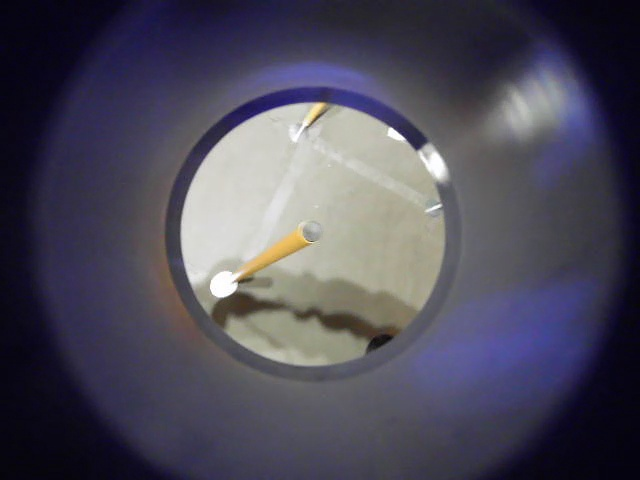tip: (279, 219, 336, 252)
